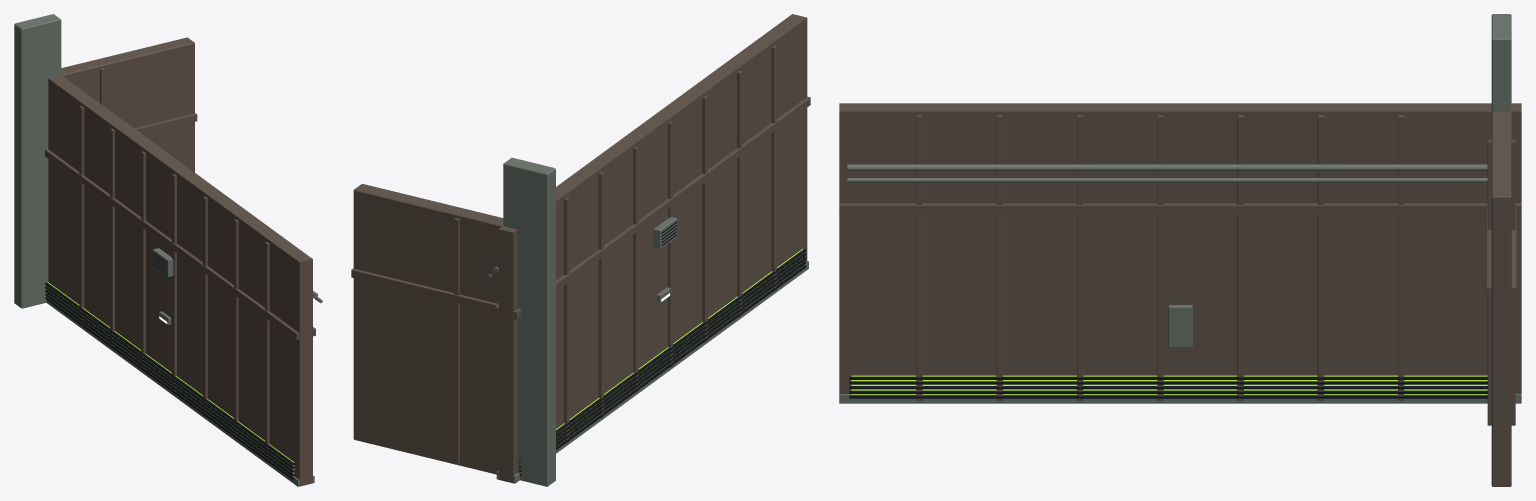
3 views of the same model, side by side, from view 1: azimuth 30°, elevation 25°; view 2: azimuth 150°, elevation 25°; view 3: azimuth 270°, elevation 25° (orthographic). The views are drawn at different scales.
Visible parts, largest first — view 1: pm1_0; view 2: pm1_0; view 3: pm1_0.
Part boxes in pixels (left/top/right/bottom): pm1_0: left=14, top=14, right=322, bottom=486; pm1_0: left=351, top=14, right=810, bottom=486; pm1_0: left=839, top=14, right=1521, bottom=486.
Bounding box in the file's own units: 6.5 × 10 × 17.
